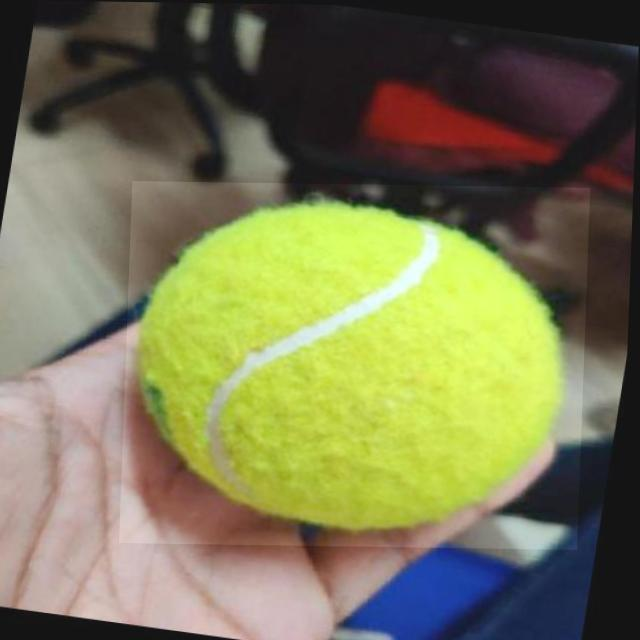-: (123, 181, 592, 548)
